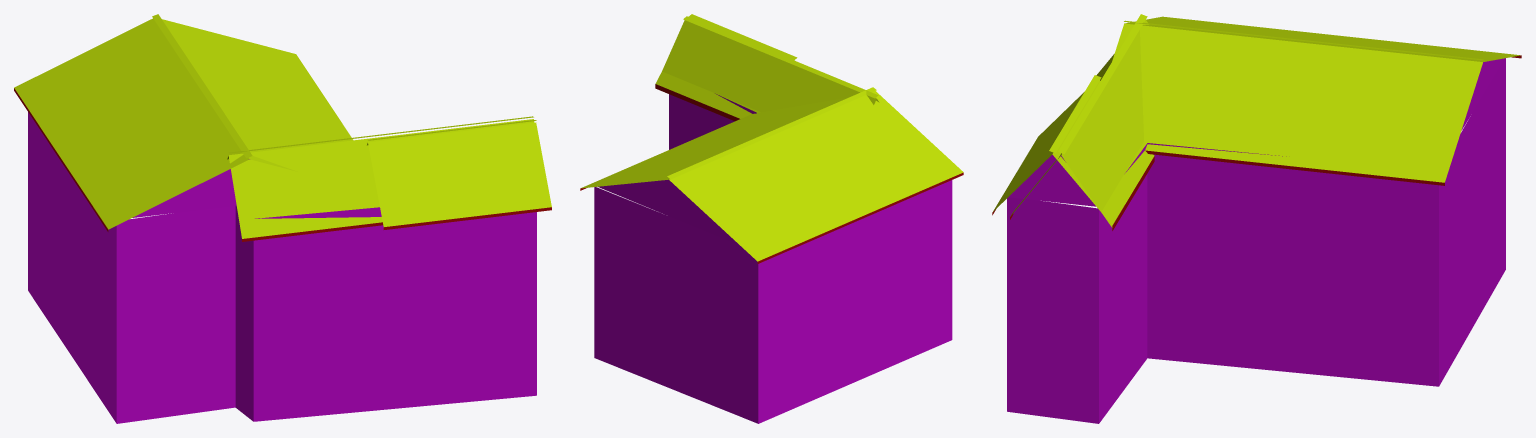
File: lct_23.glb
The picture shows the model from 3 angles, left to right: view 1: azimuth 30°, elevation 25°; view 2: azimuth 150°, elevation 25°; view 3: azimuth 270°, elevation 25°; orthographic projection. The views are drawn at different scales.
Visible parts, largest first — view 1: lct_23; view 2: lct_23; view 3: lct_23.
Part boxes in pixels (x1,y1,x2,y2): lct_23: [14, 14, 551, 423]; lct_23: [580, 14, 963, 423]; lct_23: [992, 14, 1521, 423].
Size of the model in its own units: 16.39 by 10.31 by 18.23.
